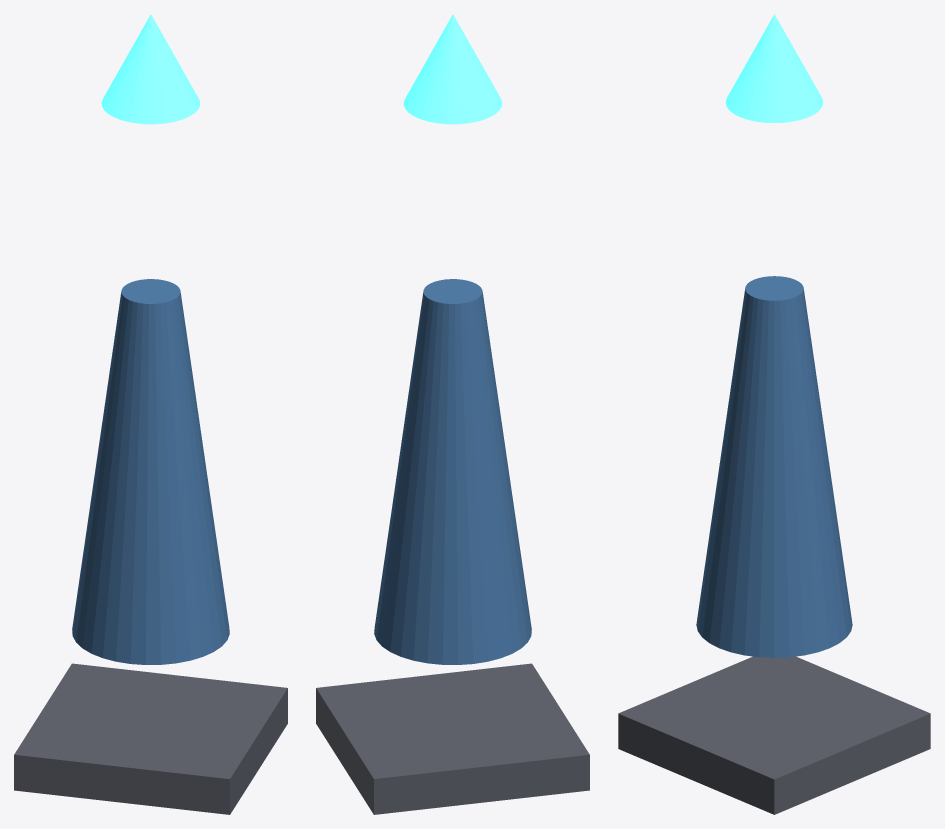
The model's file is AL_PrismTower_LOD0.glb.
The picture shows the model from 3 angles, left to right: view 1: azimuth 30°, elevation 25°; view 2: azimuth 150°, elevation 25°; view 3: azimuth 270°, elevation 25°; orthographic projection.
Visible parts, largest first — view 1: Cone, Cylinder, Cone.001; view 2: Cone, Cylinder, Cone.001; view 3: Cone, Cylinder, Cone.001.
Part boxes in pixels (x1,y1,x2,y2): Cone: [72, 279, 229, 664]; Cylinder: [14, 663, 287, 814]; Cone.001: [101, 14, 200, 124]; Cone: [374, 279, 531, 664]; Cylinder: [316, 663, 589, 814]; Cone.001: [403, 14, 502, 124]; Cone: [696, 276, 852, 657]; Cylinder: [618, 656, 930, 814]; Cone.001: [725, 14, 823, 123].
Bounding box in the file's own units: 3.2 × 8.3 × 3.2.
